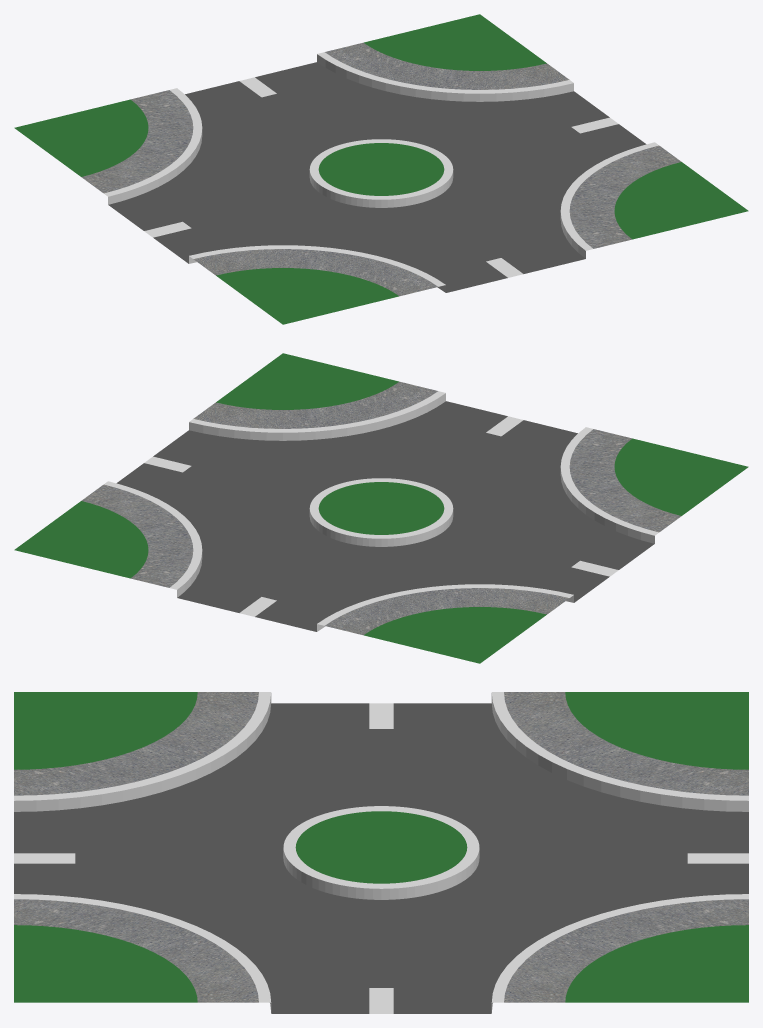
The model's file is Crossing.fbx.
3 views of the same model, one above another, from view 1: azimuth 30°, elevation 25°; view 2: azimuth 150°, elevation 25°; view 3: azimuth 270°, elevation 25° (orthographic). The views are drawn at different scales.
Visible parts, largest first — view 1: Crossing.001; view 2: Crossing.001; view 3: Crossing.001.
Boxes of the visible parts, x1=… form: Crossing.001: x1=14, y1=14, x2=748, y2=324; Crossing.001: x1=14, y1=353, x2=748, y2=663; Crossing.001: x1=14, y1=692, x2=748, y2=1013.
Bounding box in the file's own units: 6000 × 100 × 6000.
